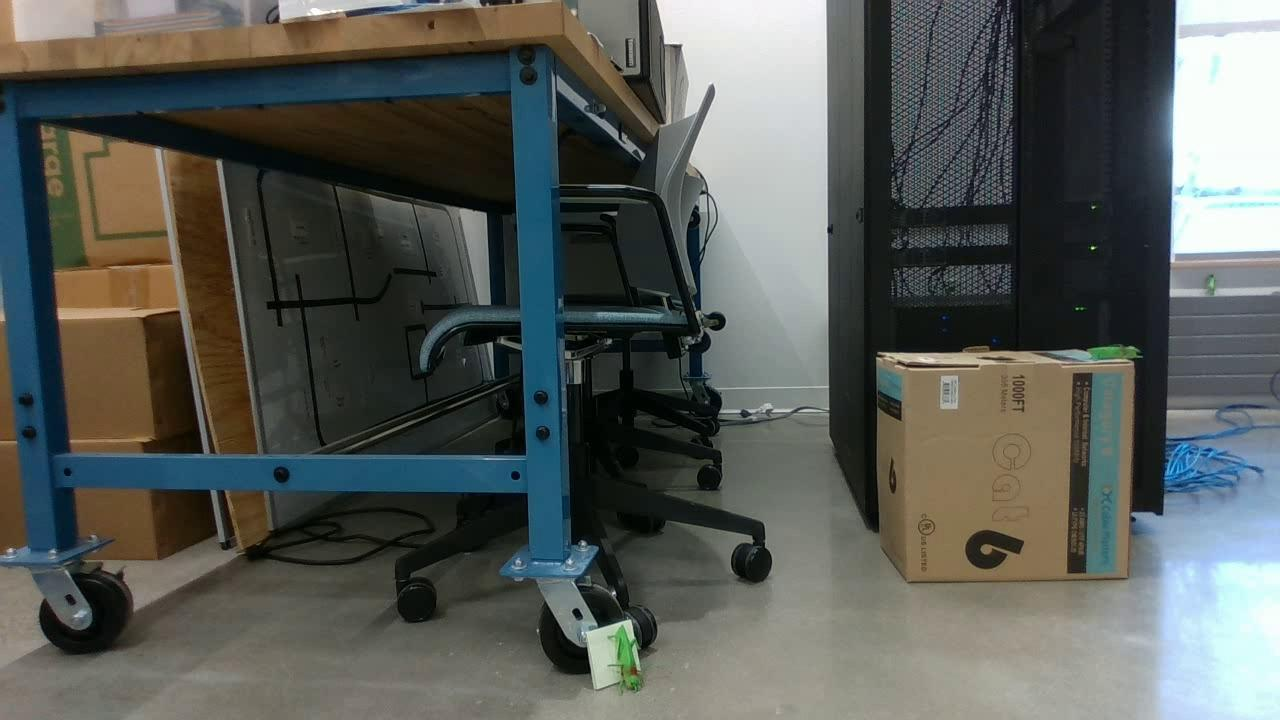grasshopper: (616, 623, 642, 699), (1088, 345, 1143, 360), (1206, 272, 1216, 297)
